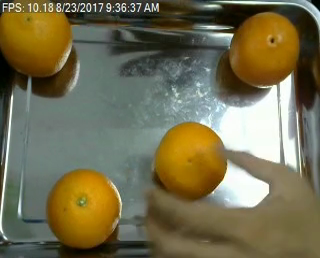Orange: (45, 168, 122, 248), (1, 1, 73, 75), (230, 11, 301, 86)
